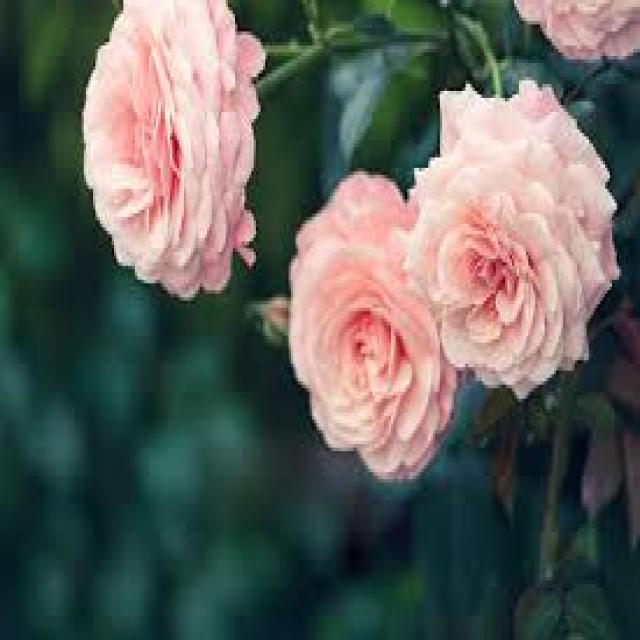rose: (400, 52, 627, 419), (74, 0, 288, 308)
